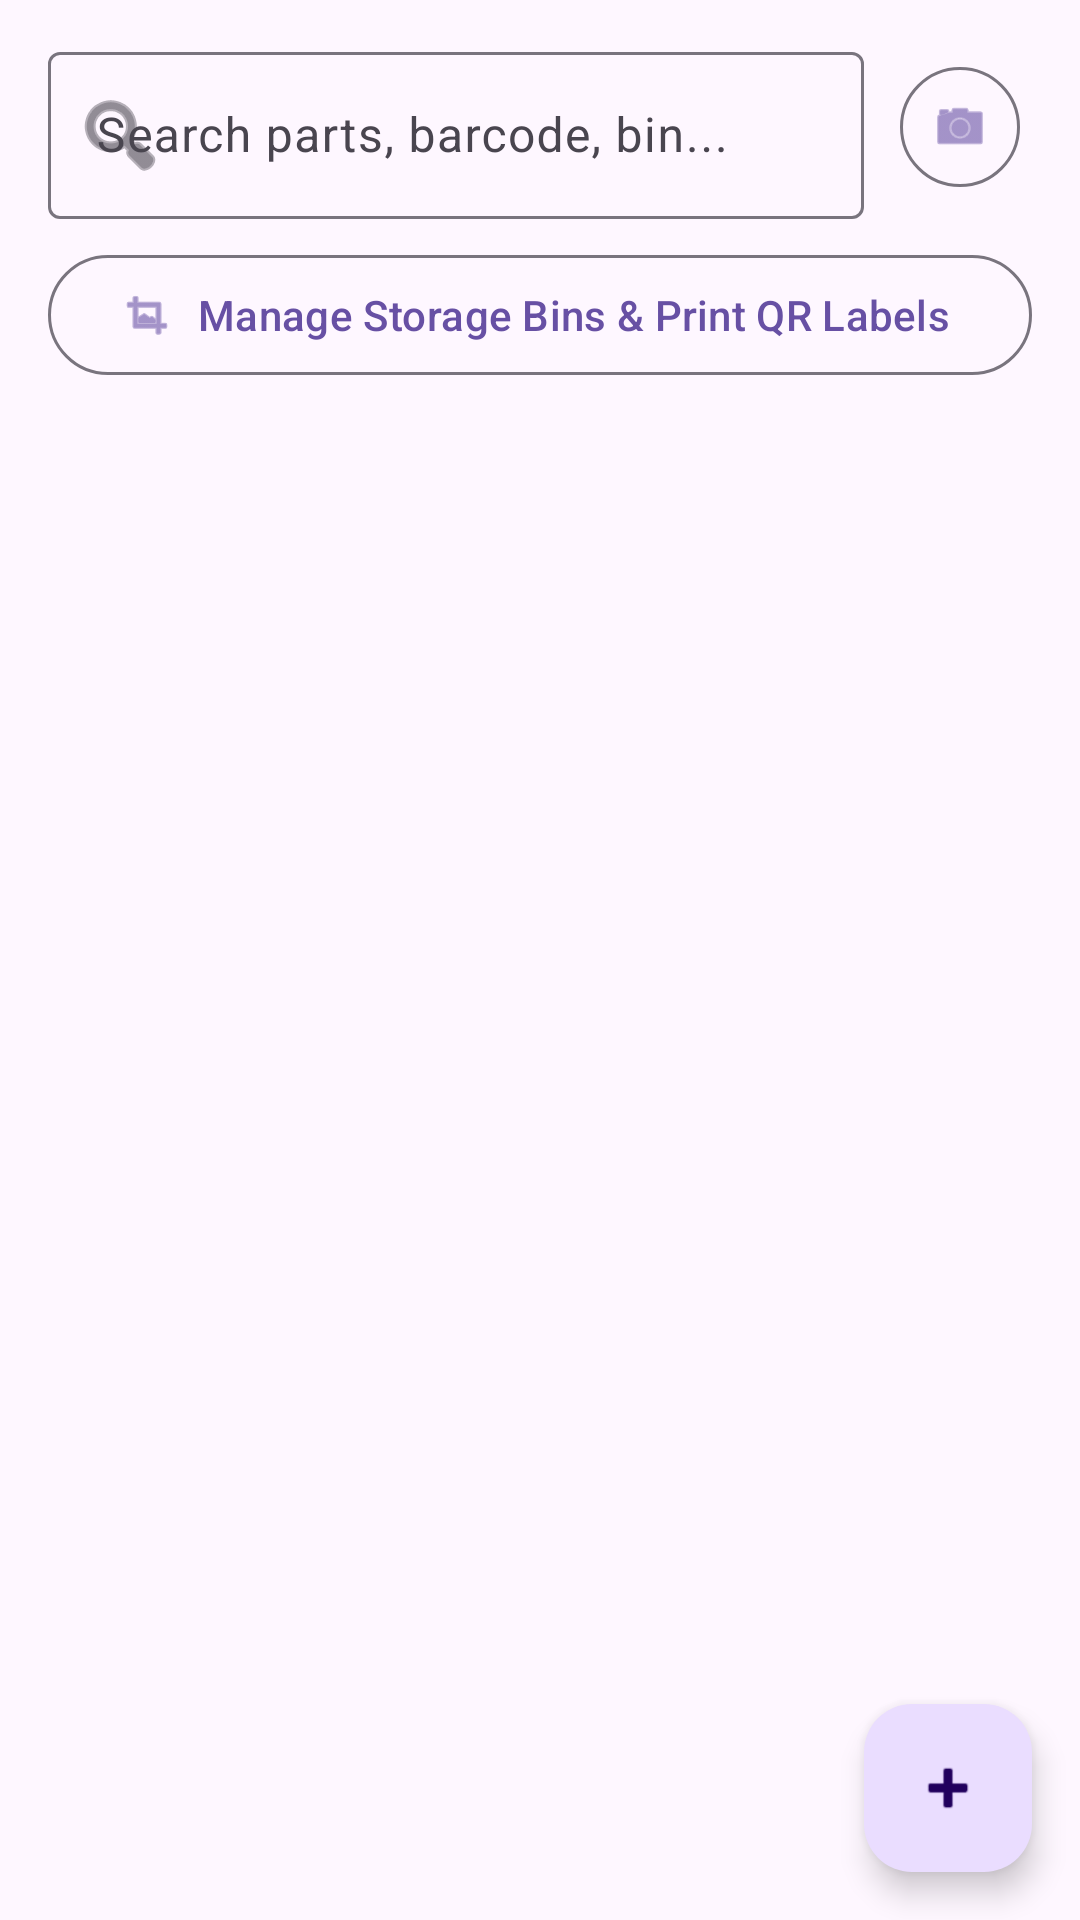

Locate icon controls on the screen. Image size 1080×1920, boxes as {"x1": x1, "y1": y1, "x2": x2, "y2": y2}.
Add New Part: {"x1": 864, "y1": 1704, "x2": 1032, "y2": 1872}
camera: {"x1": 900, "y1": 67, "x2": 1020, "y2": 187}
